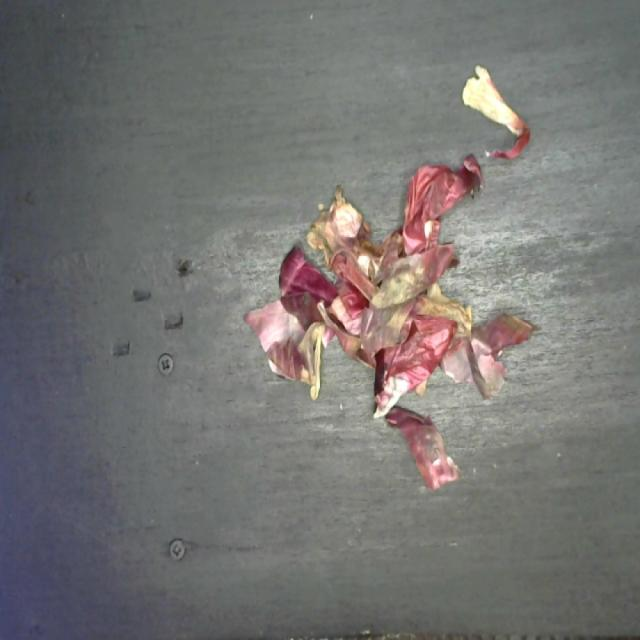biodegradable: (239, 58, 542, 496)
